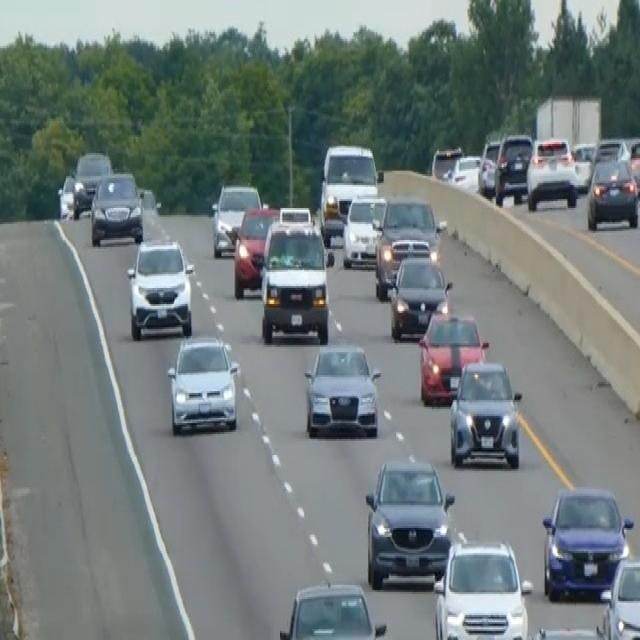car: (364, 454, 455, 588), (541, 483, 633, 601), (432, 534, 532, 638), (448, 358, 522, 470), (303, 340, 381, 439), (166, 332, 239, 436), (374, 195, 445, 298), (417, 302, 488, 404), (278, 578, 387, 638), (388, 252, 452, 340), (232, 202, 280, 298), (89, 169, 144, 245), (525, 135, 578, 212), (586, 155, 639, 229), (210, 181, 261, 256), (597, 555, 639, 638), (341, 192, 386, 268), (493, 132, 533, 204), (72, 149, 112, 217), (477, 137, 501, 195), (526, 622, 612, 638), (571, 139, 596, 192), (448, 153, 481, 192), (430, 144, 462, 181), (592, 135, 629, 164), (56, 170, 76, 218), (628, 137, 639, 197)
jeep: (125, 234, 195, 340)
minivan: (258, 211, 332, 345), (318, 140, 383, 246)
